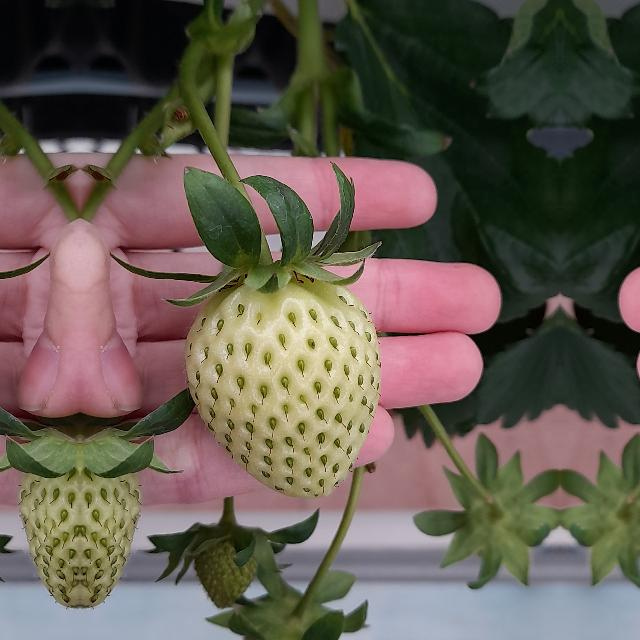Health_25: (184, 274, 380, 498), (11, 444, 80, 610), (80, 444, 148, 610), (196, 528, 258, 604)
